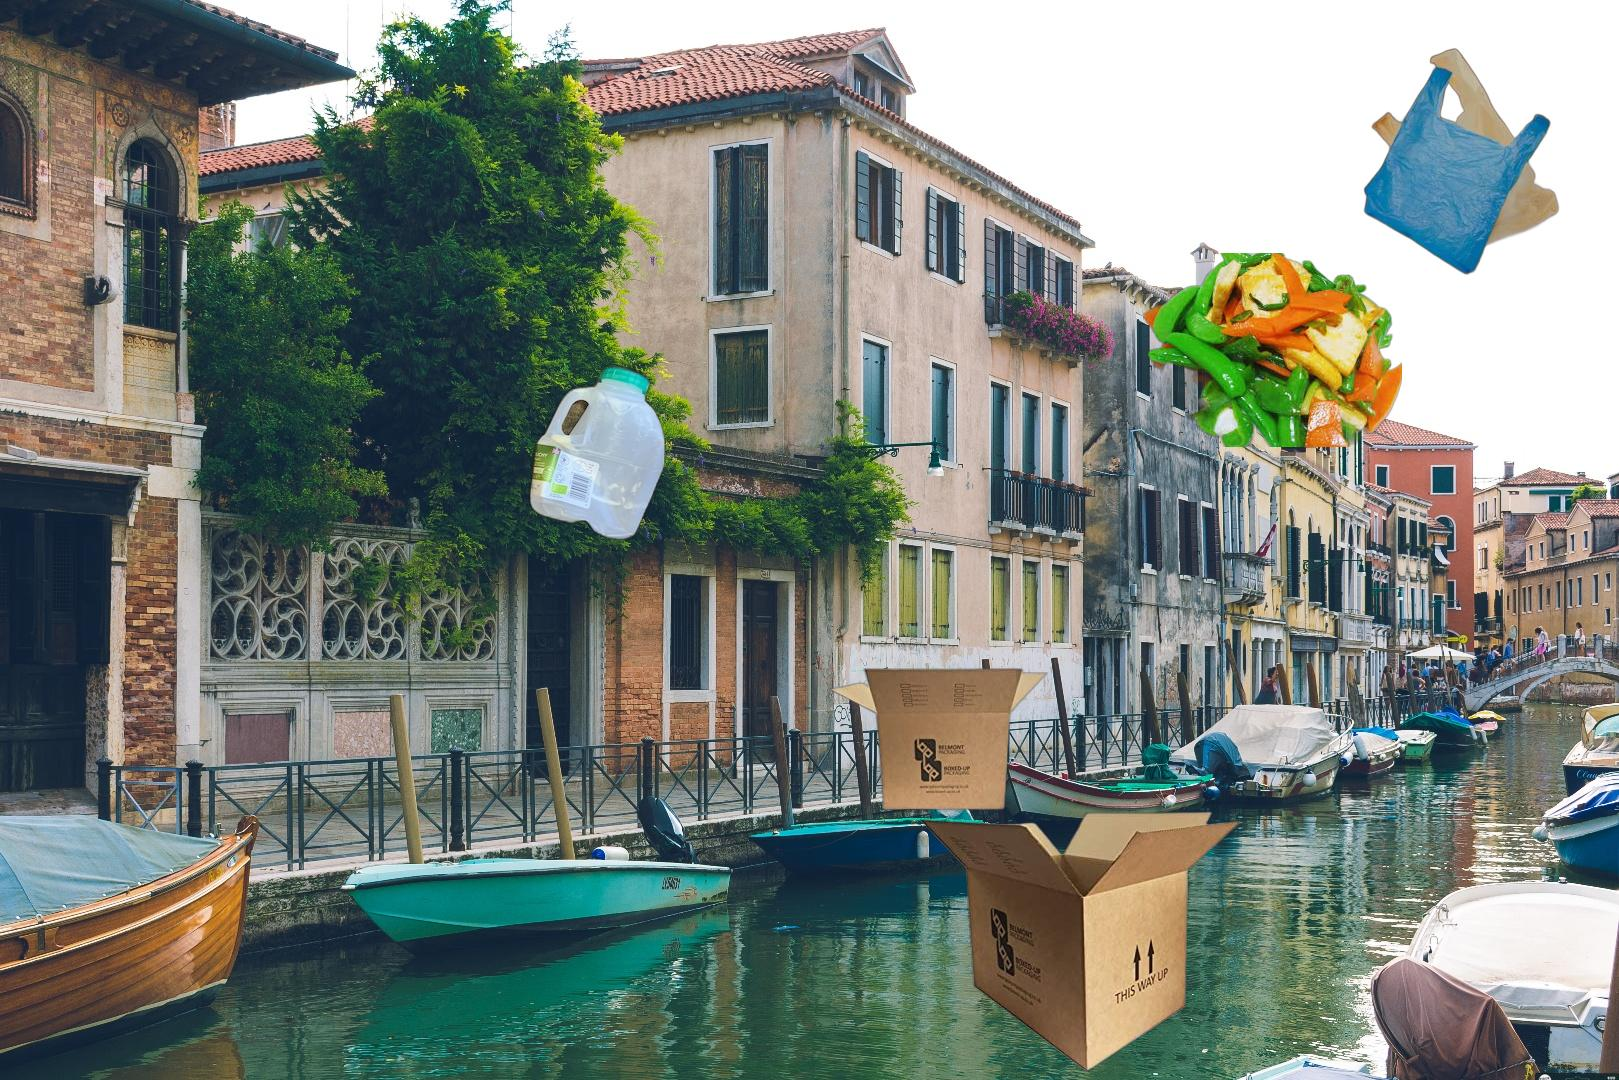battery: (1532, 1070, 1619, 1080)
biological: (1143, 253, 1402, 447)
plastic-bag: (1362, 46, 1560, 276)
plastic-bottles: (287, 360, 670, 855)
trashbox-cardboard: (825, 658, 1245, 1074)
